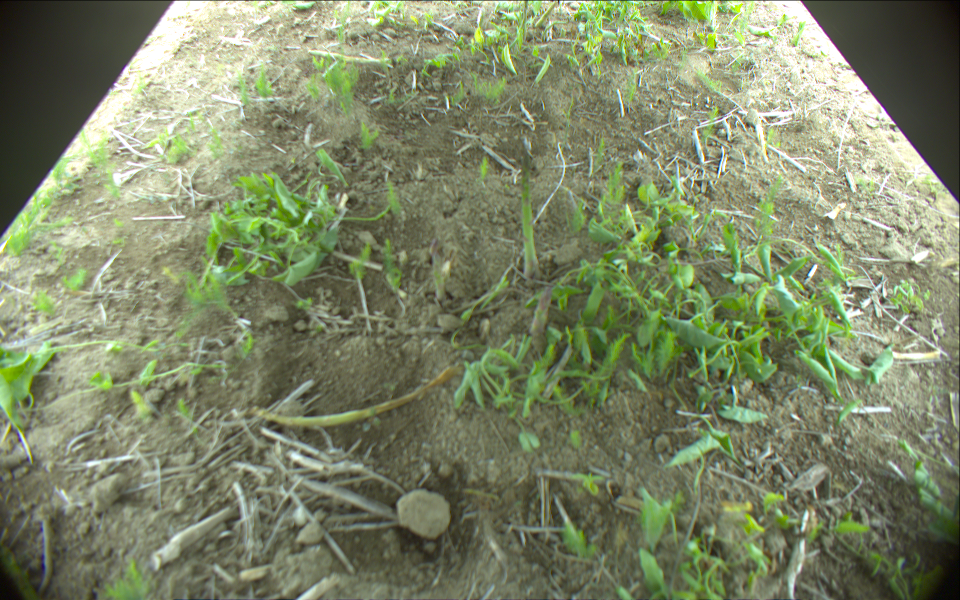aspa: (250, 364, 458, 429), (518, 156, 539, 276), (528, 289, 552, 342)
